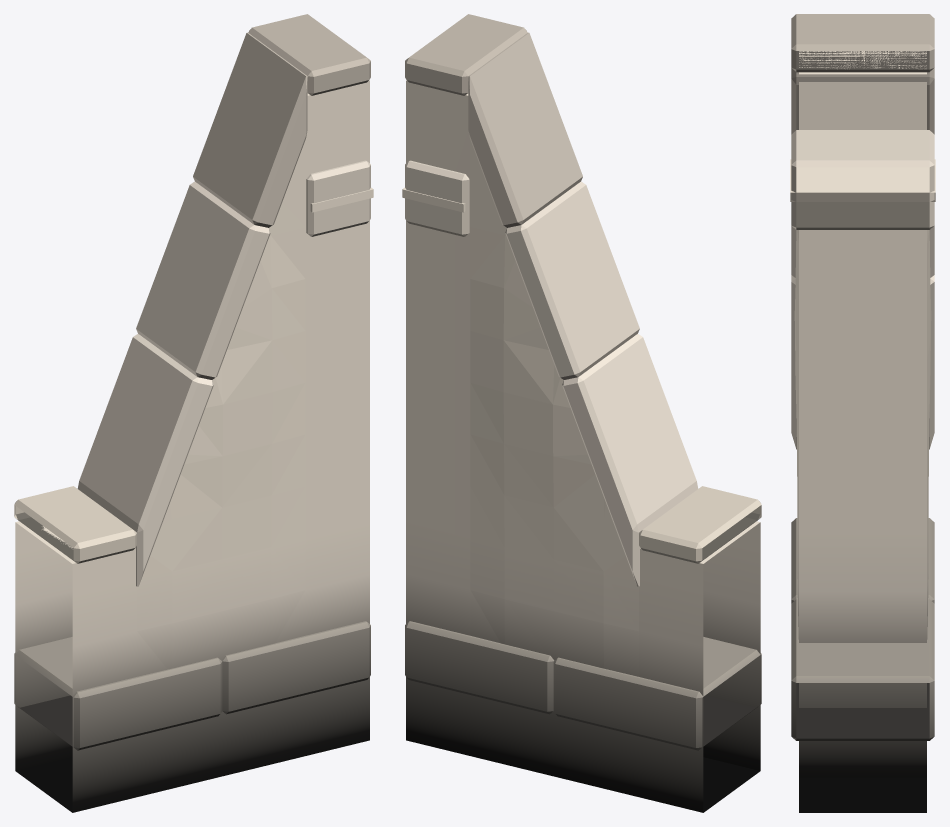
File: SM_VKI_Wall_Dwarf_Rake_150_L.fbx
3 views of the same model, side by side, from view 1: azimuth 30°, elevation 25°; view 2: azimuth 150°, elevation 25°; view 3: azimuth 270°, elevation 25° (orthographic). The views are drawn at different scales.
Parts seen in each view (by area): view 1: SM_VKI_Wall_Dwarf_Rake_150_L.001; view 2: SM_VKI_Wall_Dwarf_Rake_150_L.001; view 3: SM_VKI_Wall_Dwarf_Rake_150_L.001.
Boxes of the visible parts, bbox=[...] form: SM_VKI_Wall_Dwarf_Rake_150_L.001: bbox=[14, 14, 373, 812]; SM_VKI_Wall_Dwarf_Rake_150_L.001: bbox=[402, 14, 761, 812]; SM_VKI_Wall_Dwarf_Rake_150_L.001: bbox=[790, 14, 935, 812].
Size of the model in its own units: 1.5 by 3.3 by 0.568.
